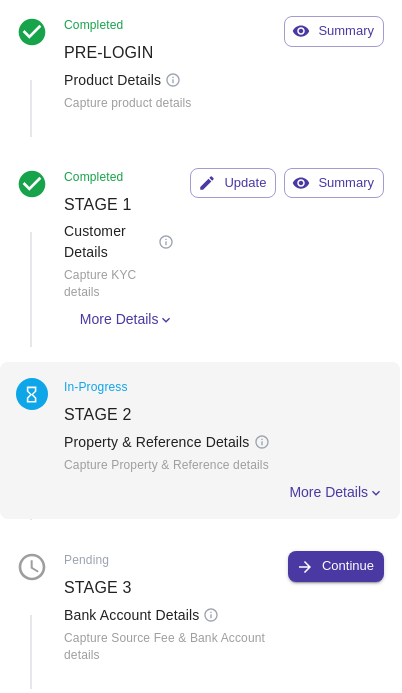
Test: StageList › expands and collapses stage content
This screenshot has width=402, height=693.
Click the button "More Details" below "Capture KYC details": (119, 320) [64,310,174,330]
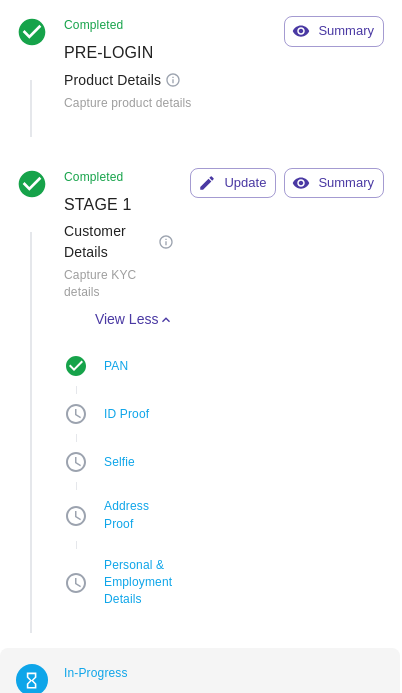
Check: the text "PAN" is shown, box [104,359,128,373]
Click the button "View Less": (119, 320) [64,310,174,330]
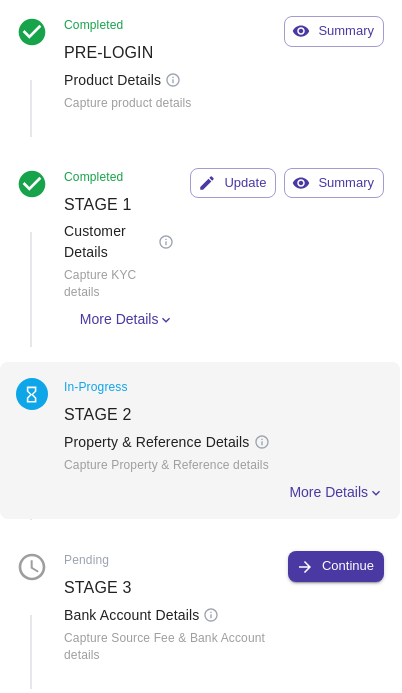
Check: the text "More Details" below "Capture KYC details" is shown, box [80,312,158,328]
